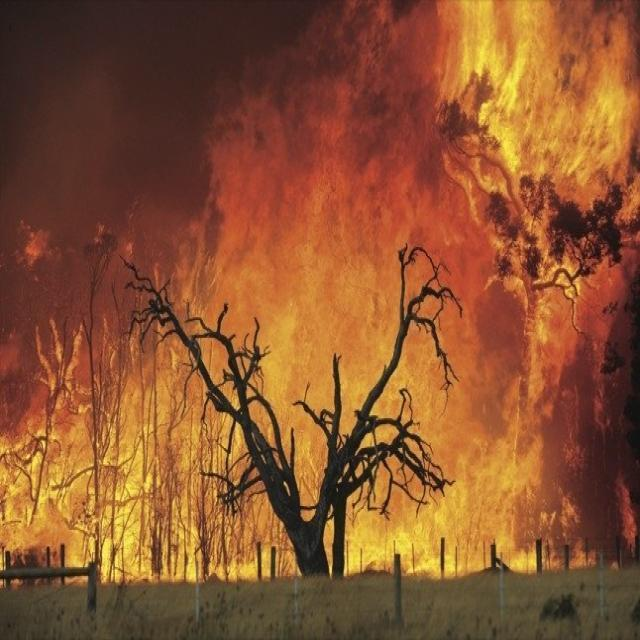Fire: (0, 213, 635, 569), (208, 0, 637, 225)
Smoke: (24, 25, 153, 186), (149, 26, 204, 198)
